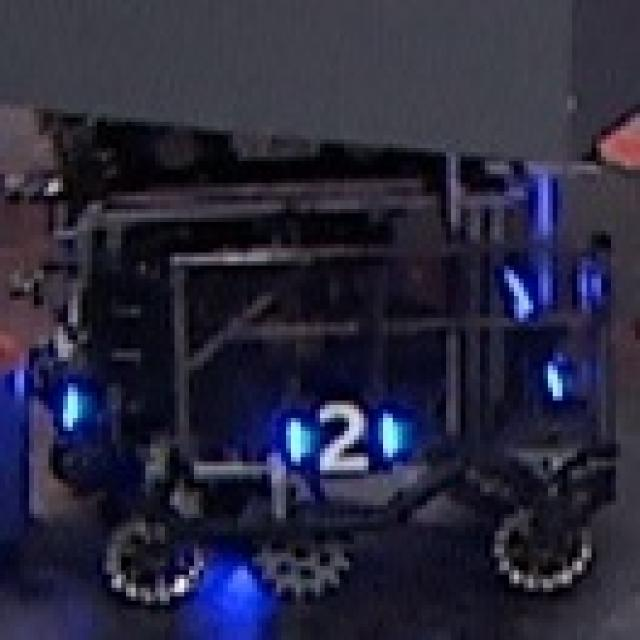B2: (281, 396, 398, 470)
